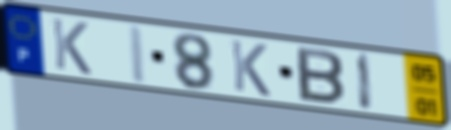8: (168, 31, 215, 92)
B: (294, 44, 347, 108)
I: (127, 22, 150, 87), (356, 50, 376, 115)
K: (228, 37, 274, 100), (49, 16, 95, 78)
